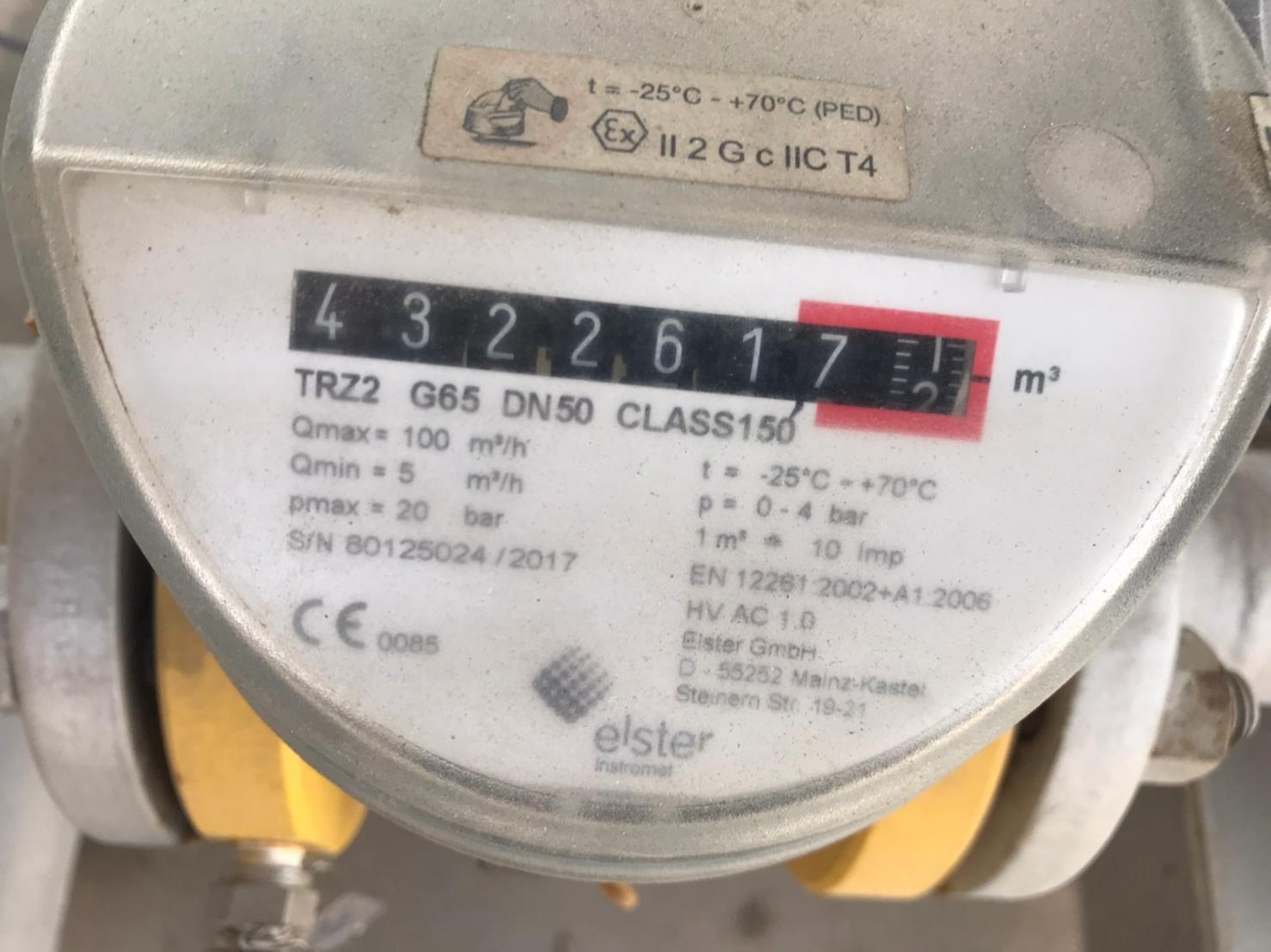analog_dial: (274, 215, 1006, 455)
